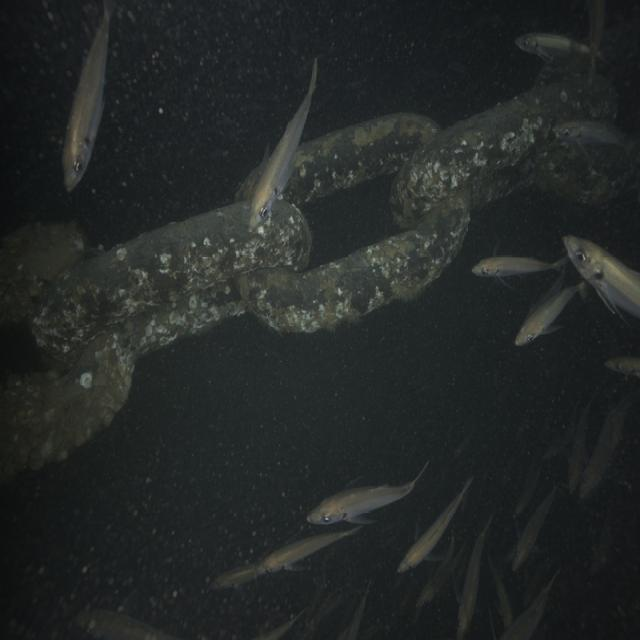ChainLink: (32, 202, 311, 359), (390, 77, 616, 227), (238, 191, 470, 332), (0, 326, 135, 481), (282, 113, 441, 204), (0, 222, 85, 326), (134, 280, 246, 356), (535, 142, 630, 203), (470, 156, 535, 206)
